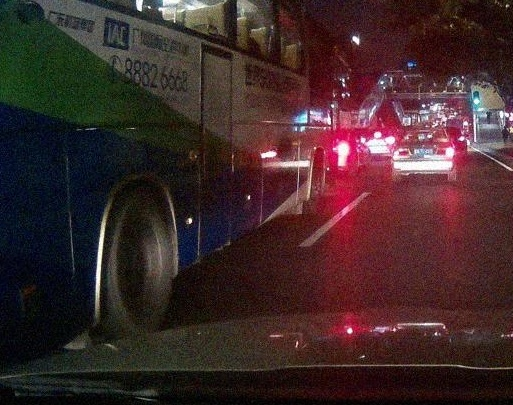L_light: (394, 148, 411, 156)
R_light: (436, 147, 454, 156)
T_light: (419, 132, 430, 135)
night-right: (392, 128, 456, 183)
